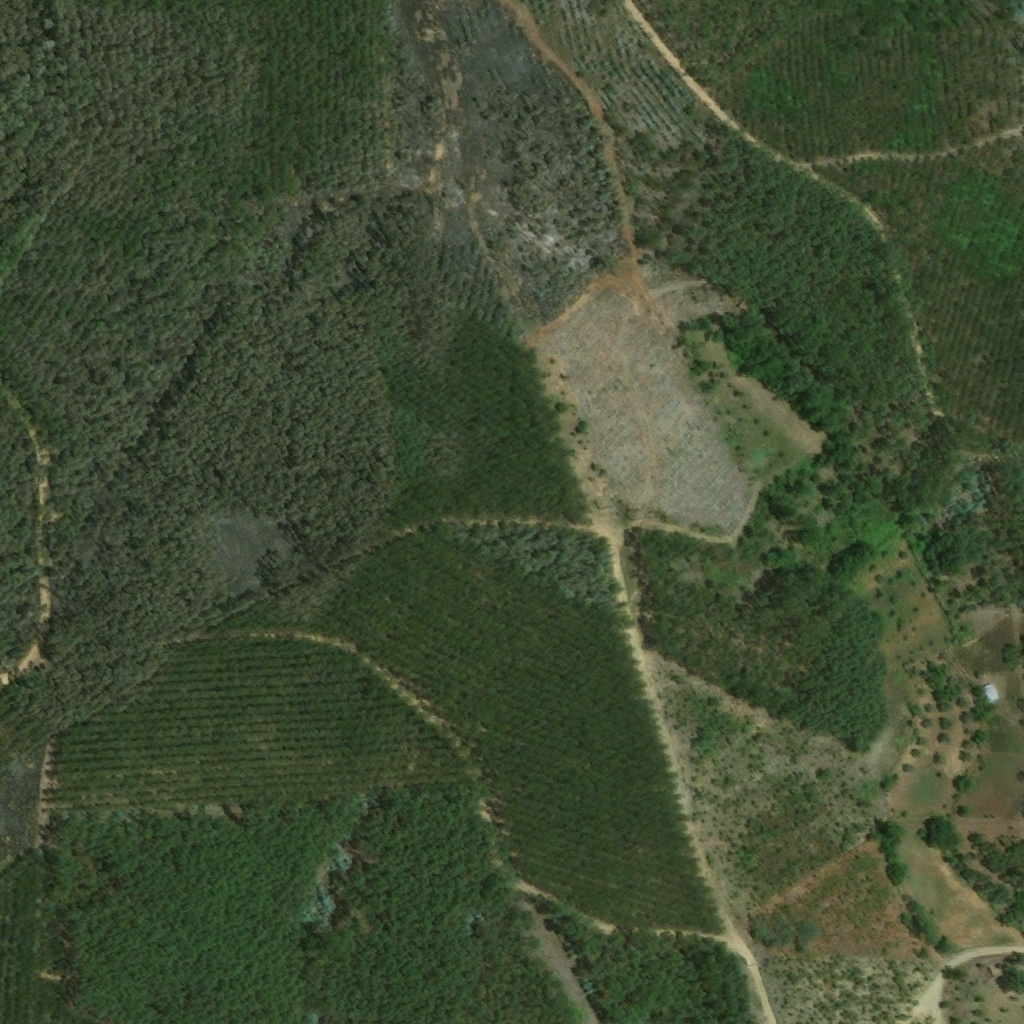0 no-damage: (979, 683, 1000, 705)
